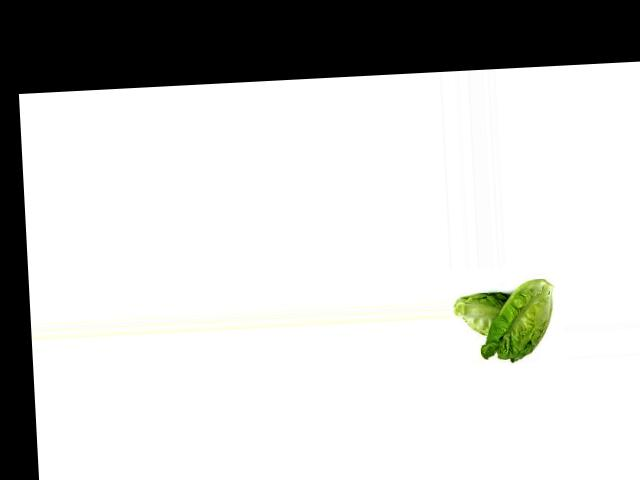lettuce: (451, 287, 512, 340)
